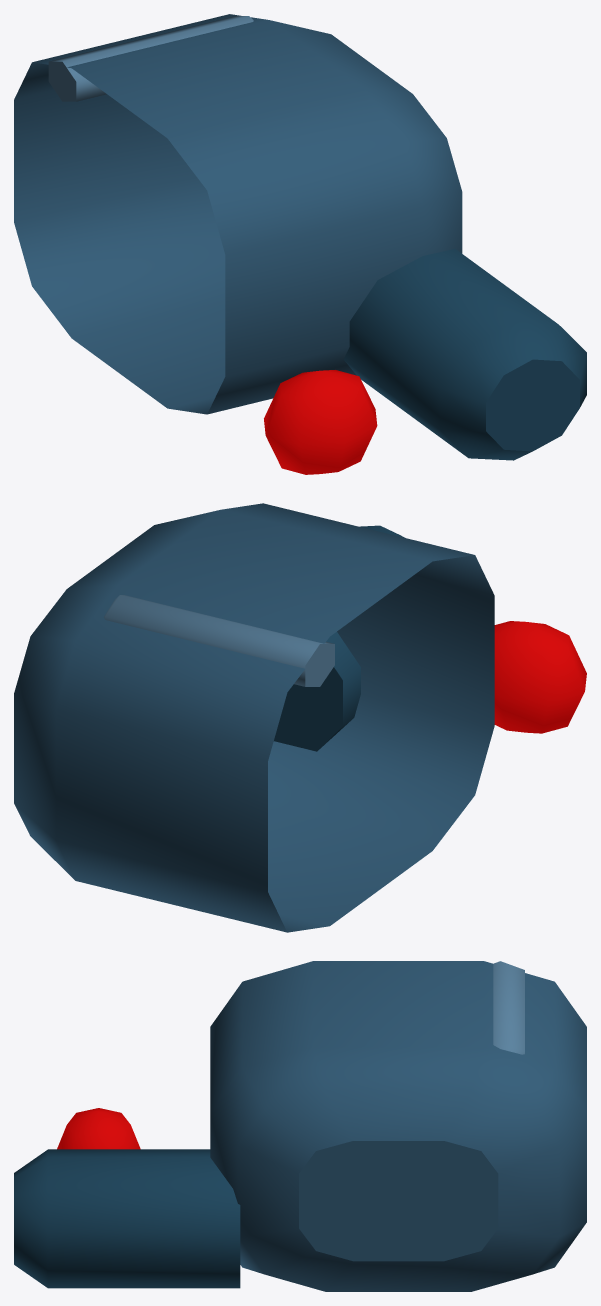
File: newshc-275.glb
3 renders of one model, top to bottom at view 1: azimuth 30°, elevation 25°; view 2: azimuth 150°, elevation 25°; view 3: azimuth 270°, elevation 25°, orthographic. The views are drawn at different scales.
Visible parts, largest first — view 1: newshc-275; view 2: newshc-275; view 3: newshc-275.
Boxes of the visible parts, x1,y1,x2,y2 form: newshc-275: (14,14,586,474); newshc-275: (14,503,586,932); newshc-275: (14,961,586,1291).
Bounding box in the file's own units: 0.45 × 0.3918 × 0.8442.
